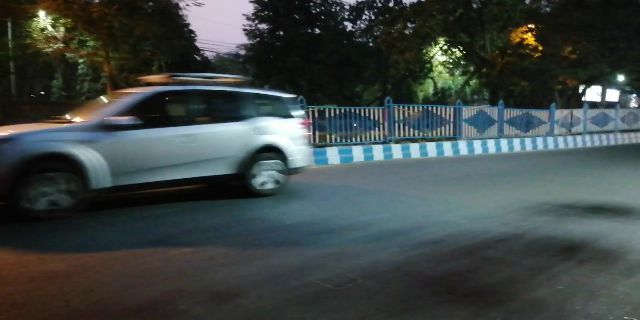Car: (1, 72, 316, 227)
